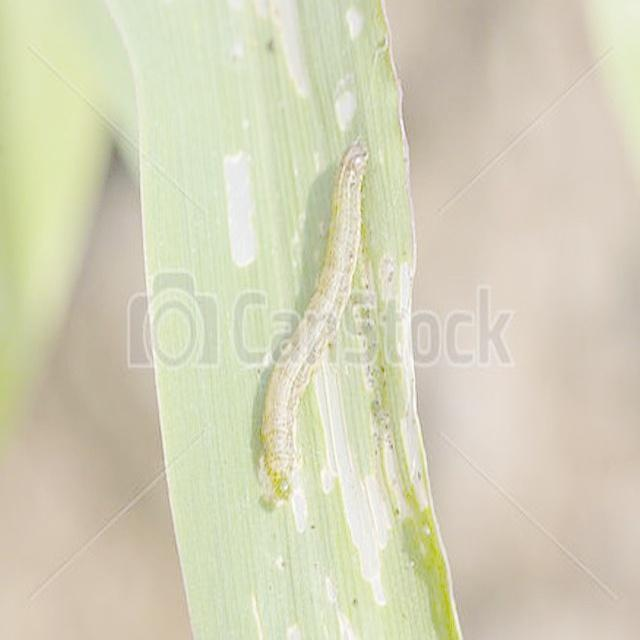Plaga: (255, 137, 374, 508)
